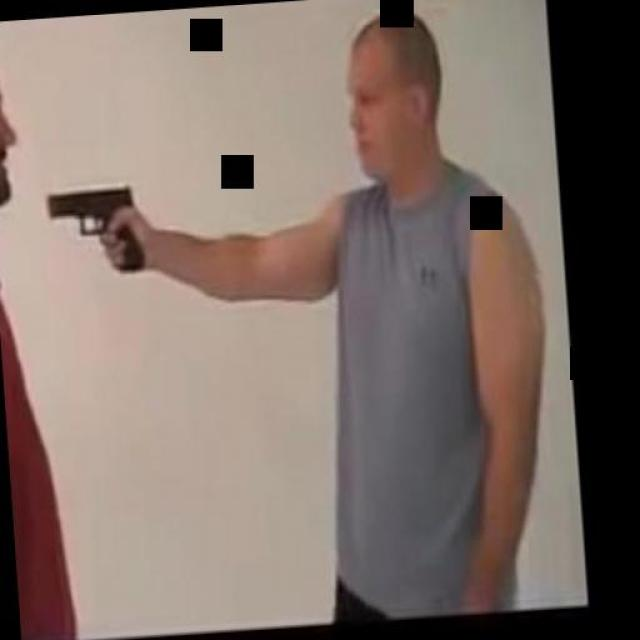gun: (42, 179, 146, 281)
